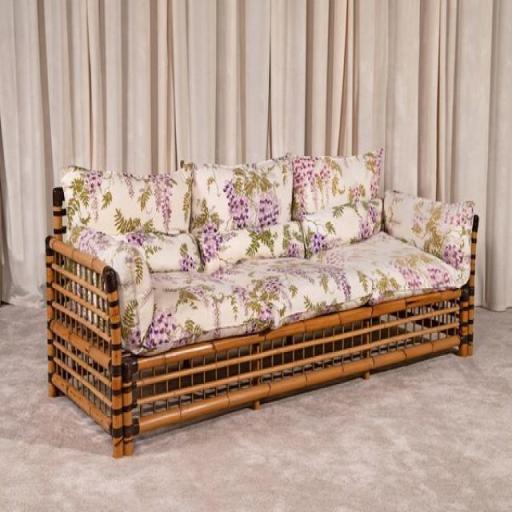sofa: (29, 144, 497, 446)
